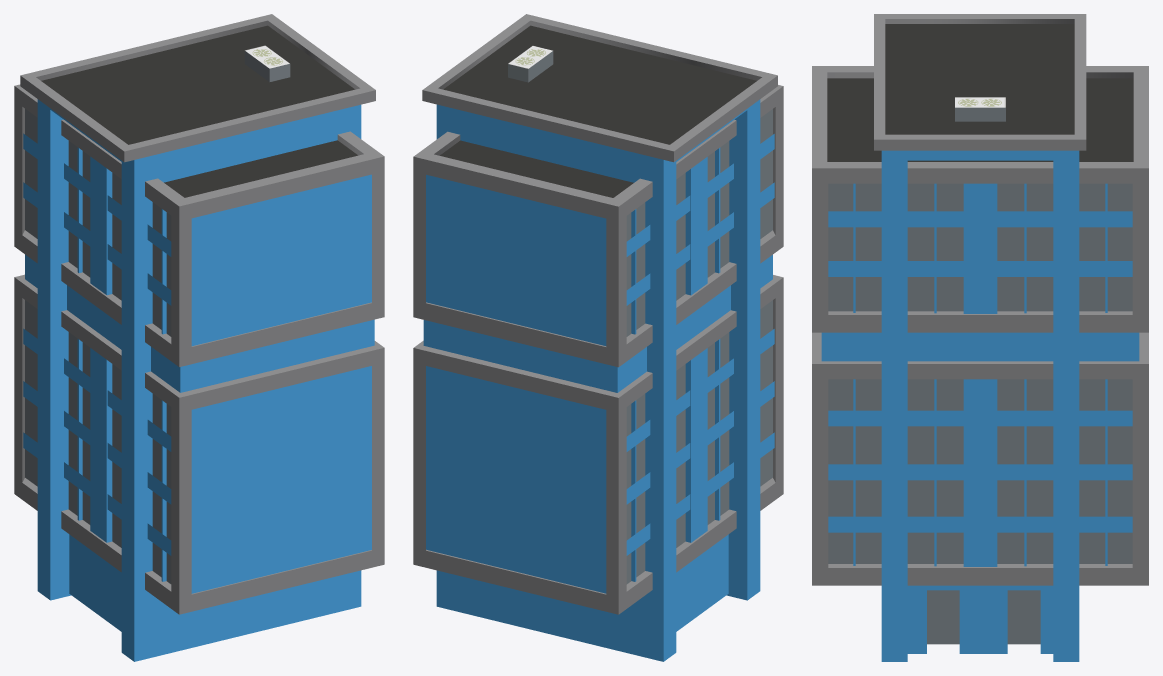
Rendered from putong_xiaoxing08.fbx.
The picture shows the model from 3 angles, left to right: view 1: azimuth 30°, elevation 25°; view 2: azimuth 150°, elevation 25°; view 3: azimuth 270°, elevation 25°; orthographic projection. The views are drawn at different scales.
Visible parts, largest first — view 1: putong_xiaoxing08; view 2: putong_xiaoxing08; view 3: putong_xiaoxing08.
Boxes of the visible parts, box(x1,y1,x2,y2) form: putong_xiaoxing08: box(14, 14, 384, 661); putong_xiaoxing08: box(413, 14, 783, 661); putong_xiaoxing08: box(812, 14, 1148, 661).
Bounding box in the file's own units: 4.81 × 5.45 × 9.58.
